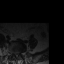CCS_severe_stenosis: (16, 53, 17, 58)
LFS_severe_stenosis: (19, 51, 20, 55)
LLS_severe_stenosis: (17, 52, 18, 56)
RFS_severe_stenosis: (13, 51, 15, 56)
RLS_severe_stenosis: (14, 52, 16, 57)
